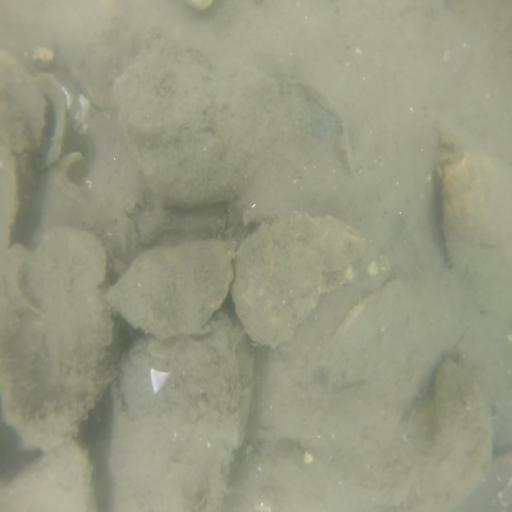Oyster-Closed: (113, 53, 283, 220), (112, 314, 251, 512), (1, 229, 115, 449), (234, 216, 364, 343), (110, 241, 231, 340), (416, 361, 490, 505)
